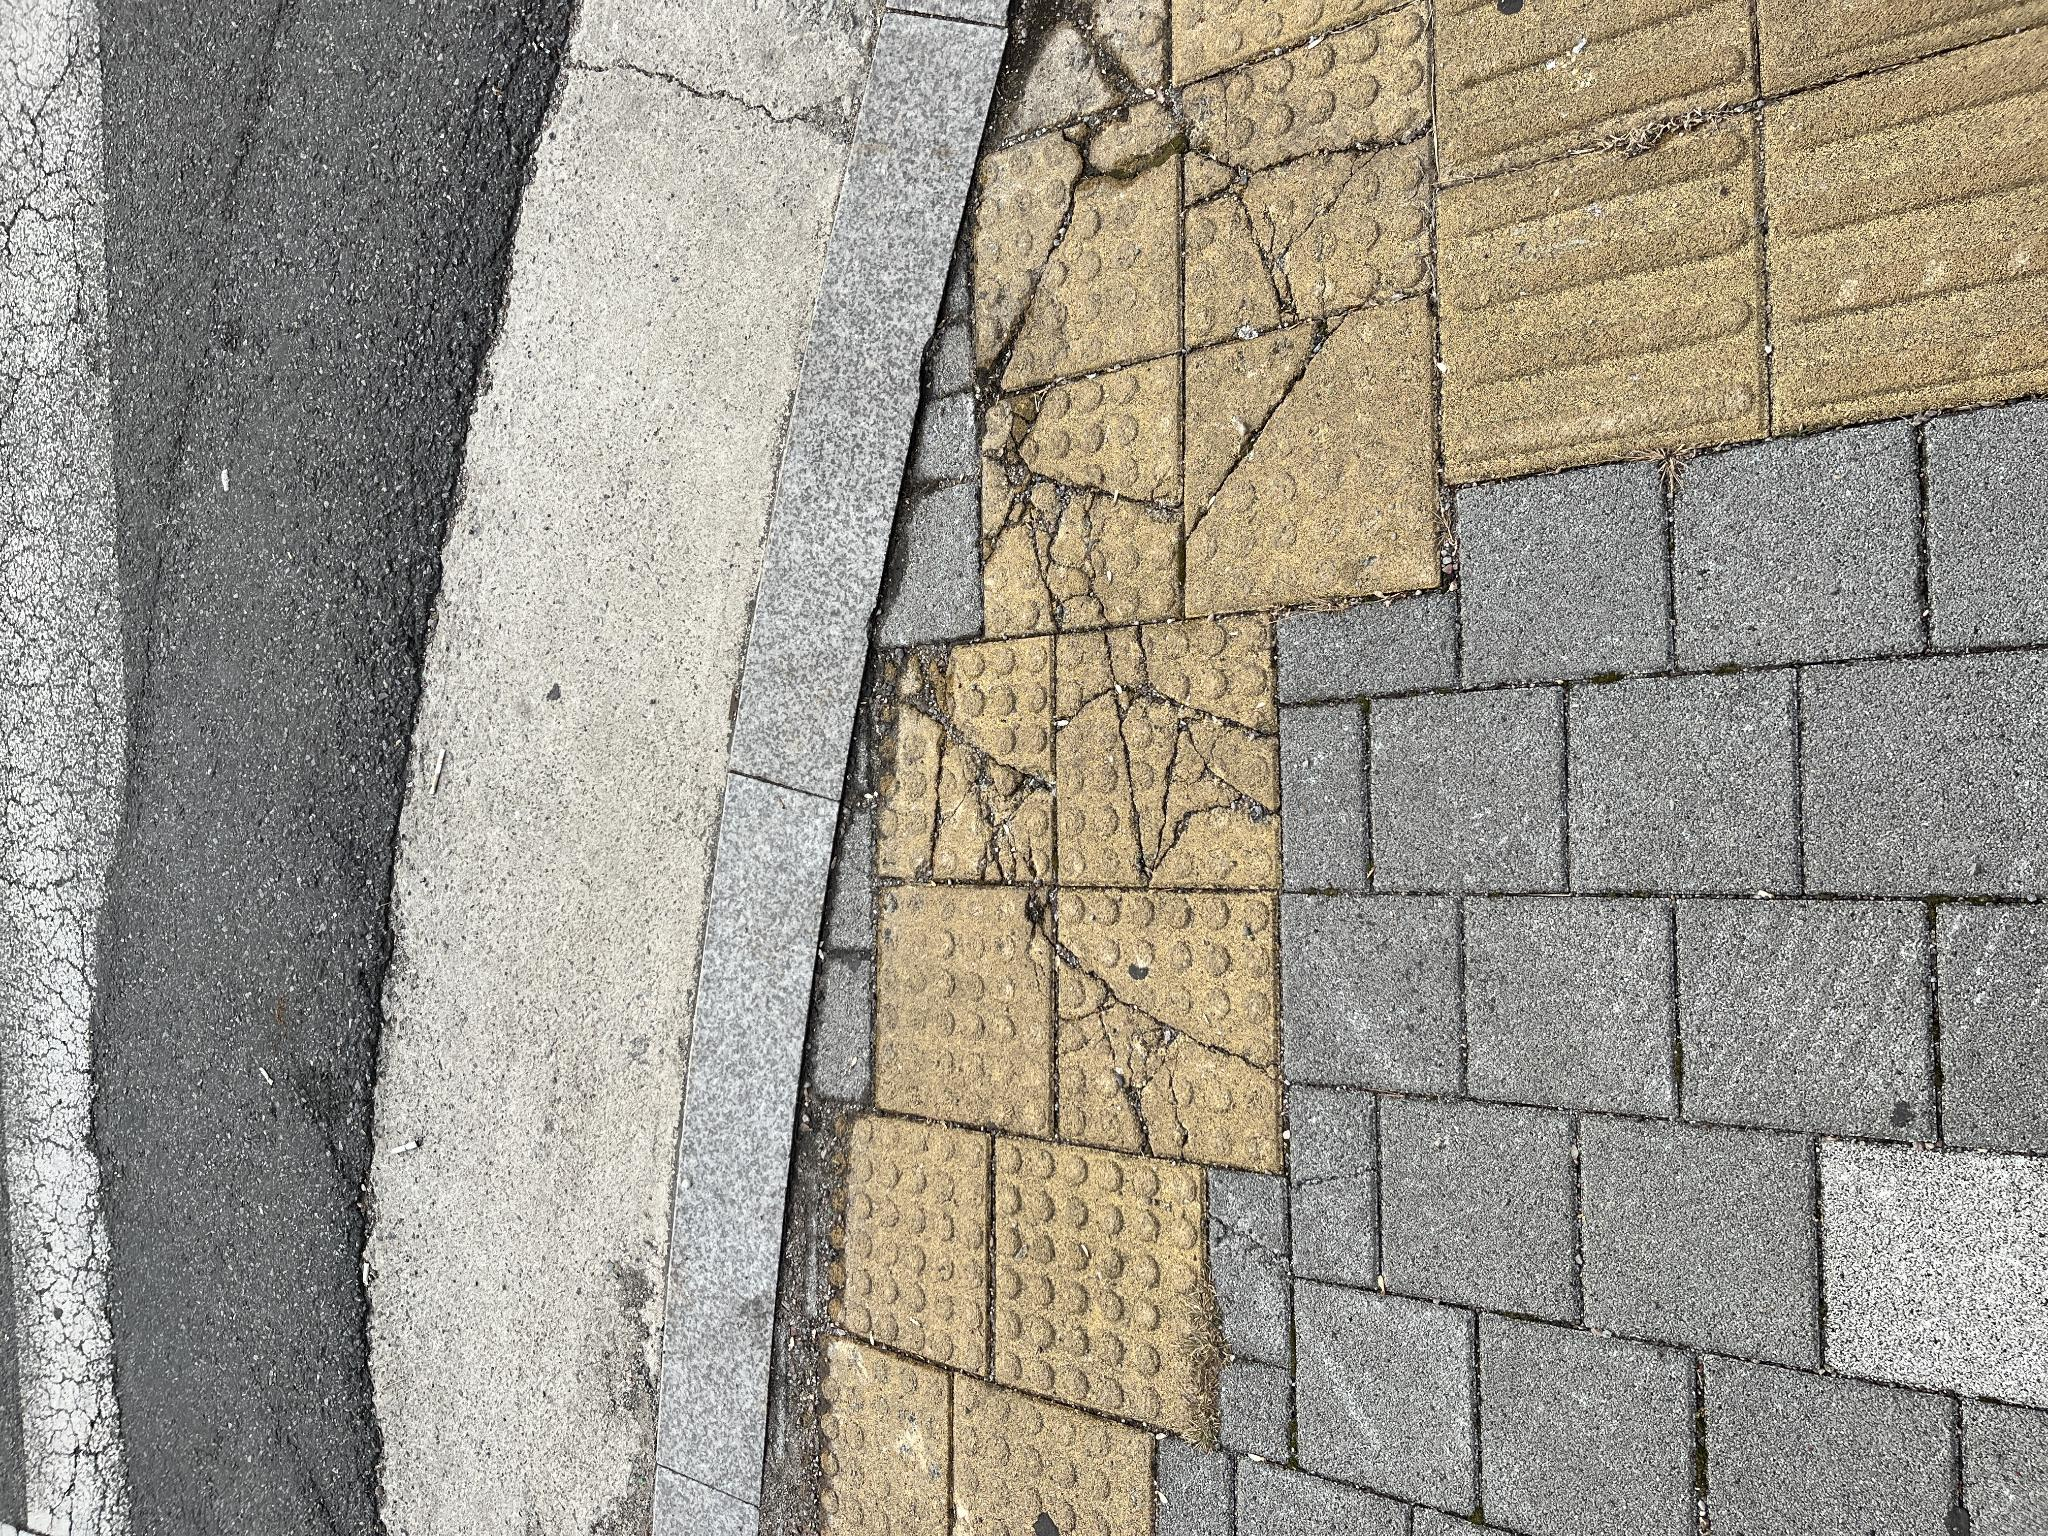Stop block broken: (921, 1186, 1242, 1436), (650, 1058, 922, 1279)
Stop block normal: (100, 994, 400, 1199)
